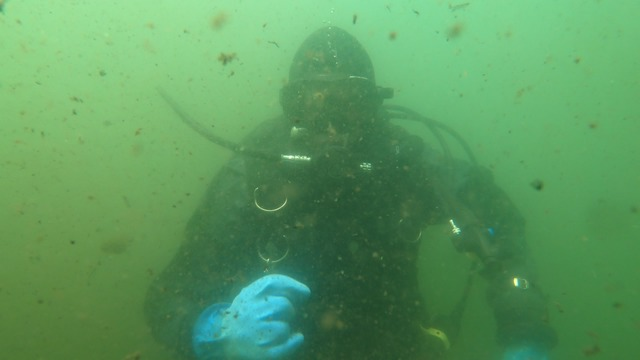Diver: (140, 11, 570, 359)
Hand: (197, 267, 315, 351)
Head: (283, 17, 390, 168)
